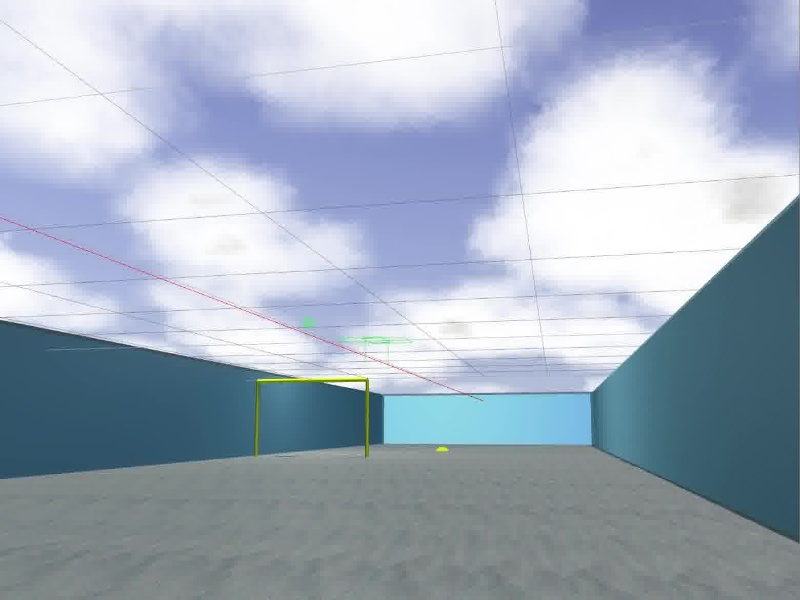gate: (253, 377, 369, 458)
